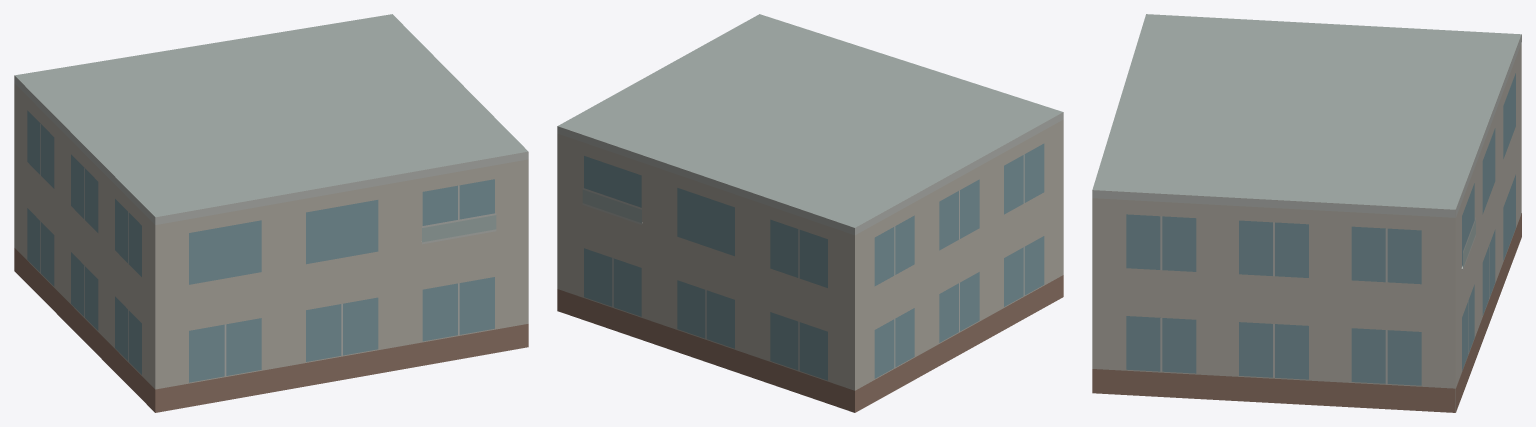
The model's file is survey-upis-32663045.glb.
3 views of the same model, side by side, from view 1: azimuth 30°, elevation 25°; view 2: azimuth 150°, elevation 25°; view 3: azimuth 270°, elevation 25° (orthographic). The views are drawn at different scales.
Parts seen in each view (by area): view 1: survey-upis-32663045.tmp; view 2: survey-upis-32663045.tmp; view 3: survey-upis-32663045.tmp.
Boxes of the visible parts, x1,y1,x2,y2 form: survey-upis-32663045.tmp: [14, 14, 528, 412]; survey-upis-32663045.tmp: [557, 14, 1063, 412]; survey-upis-32663045.tmp: [1092, 14, 1521, 412].
Bounding box in the file's own units: 12.62 × 6.1 × 11.7.
